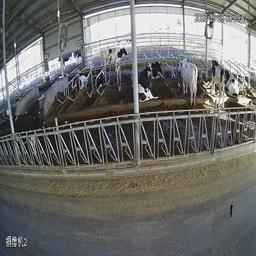cow: (174, 51, 199, 107), (98, 41, 129, 80), (139, 62, 159, 108), (210, 54, 227, 107), (150, 46, 164, 78), (229, 71, 242, 101)
